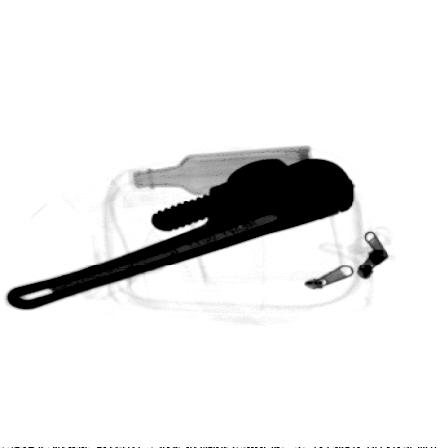Wrench: (4, 155, 356, 313)
